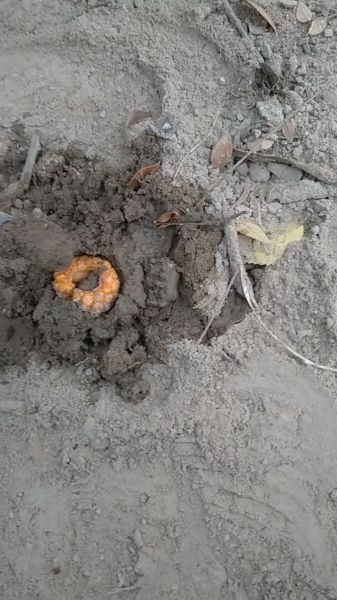eggs: (46, 249, 127, 320)
